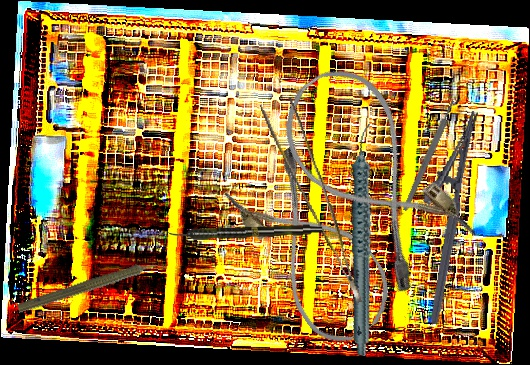Cannula: (262, 51, 484, 299), (220, 142, 406, 355)
Handpiece: (307, 122, 421, 357), (15, 253, 169, 320), (168, 222, 323, 242)
Needle Holder: (399, 105, 481, 325)
Scalpel Handle: (401, 99, 457, 212)
Tissue Forceps: (259, 93, 363, 314)
